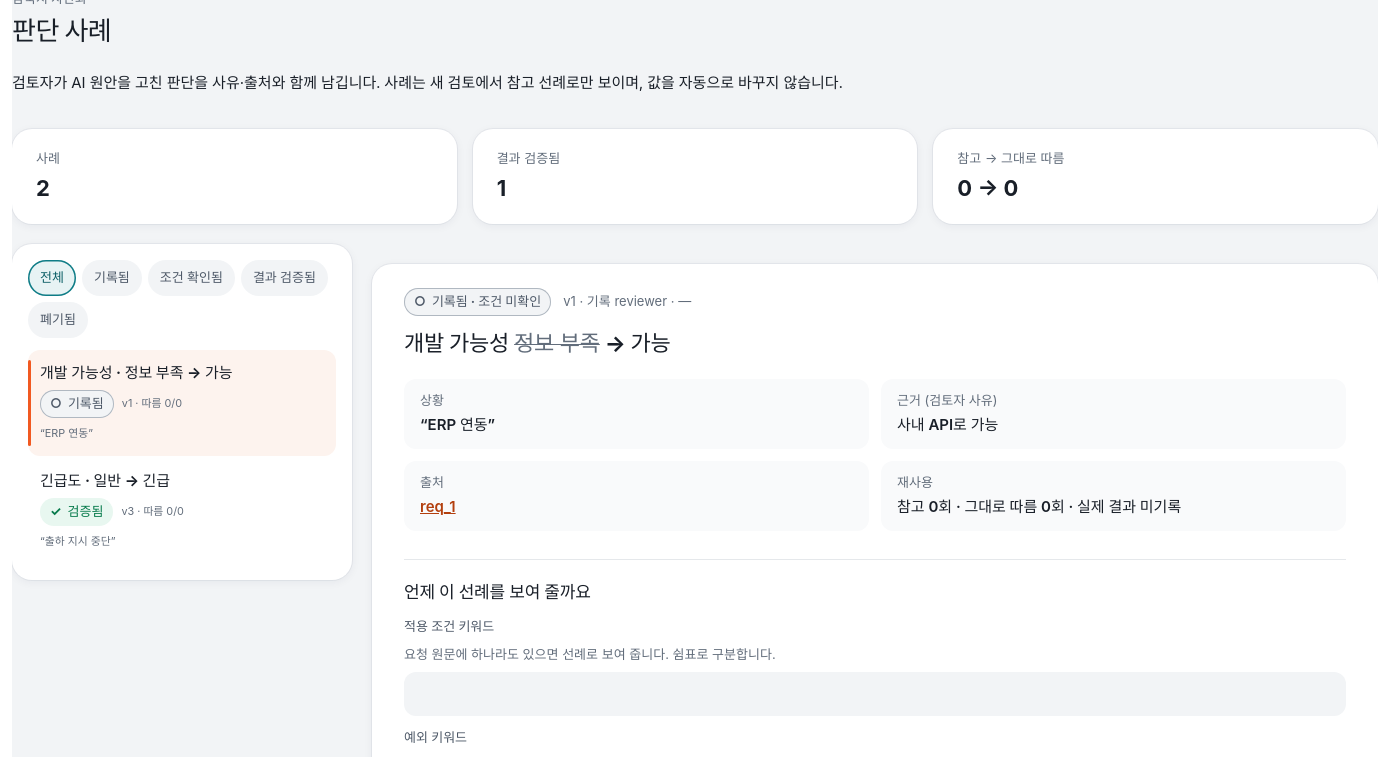
decision cases › lists cases on the left and shows the selected case on the right
Step 1. Click the button "긴급도 · 일반 → 긴급 ✓ 검증됨 v3 · 따름 0/0 “출하 지시 중단”" → (182, 510), box [28,458,336,564]
(page scrolled)
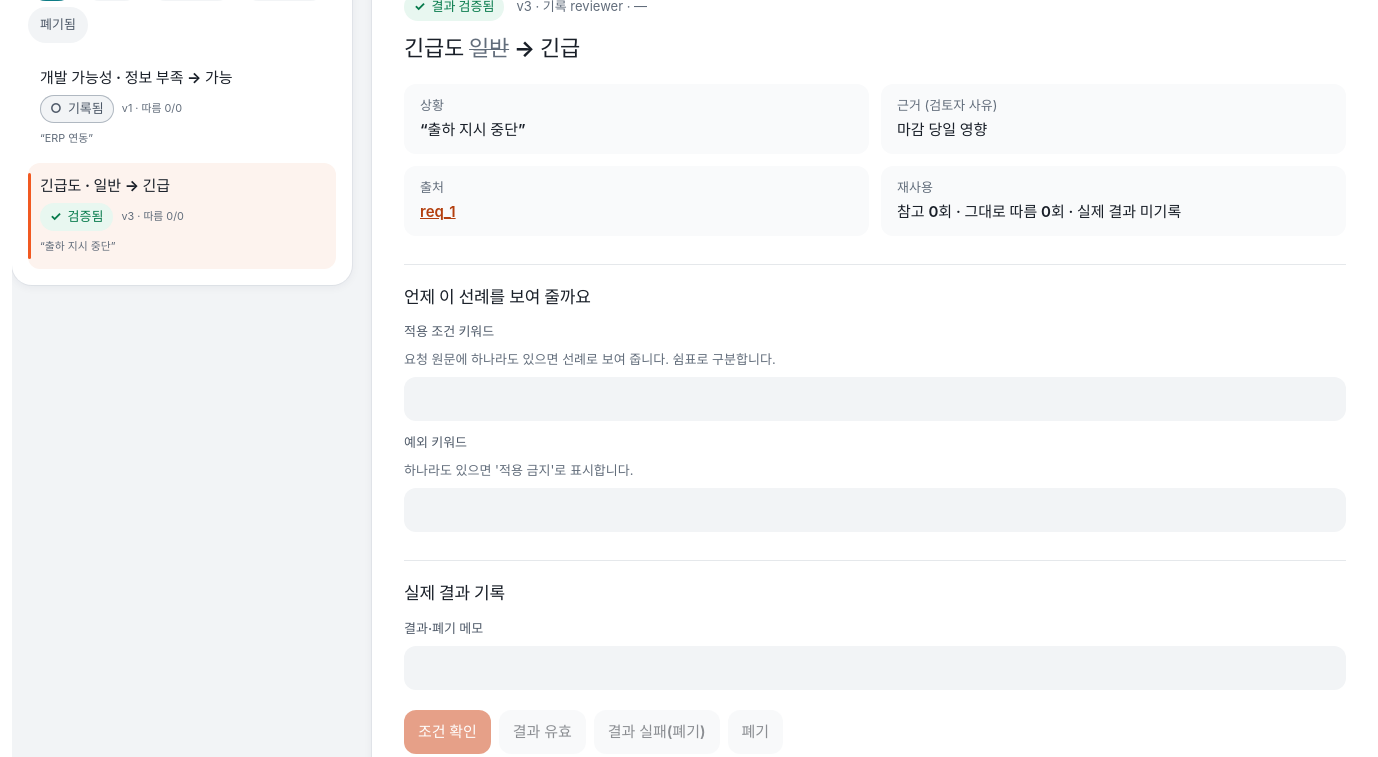
Expected: the element named "판단 사례 출하 지시 중단" shows "마감 당일 영향", [897,120,987,139]
